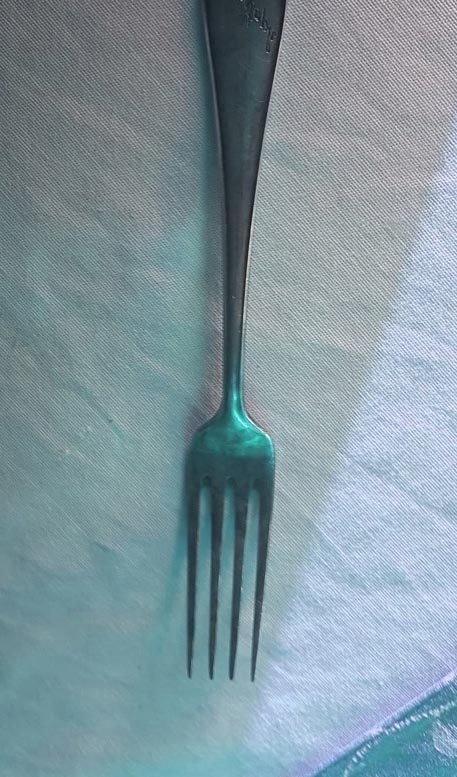Widelec: (177, 413, 278, 685)
